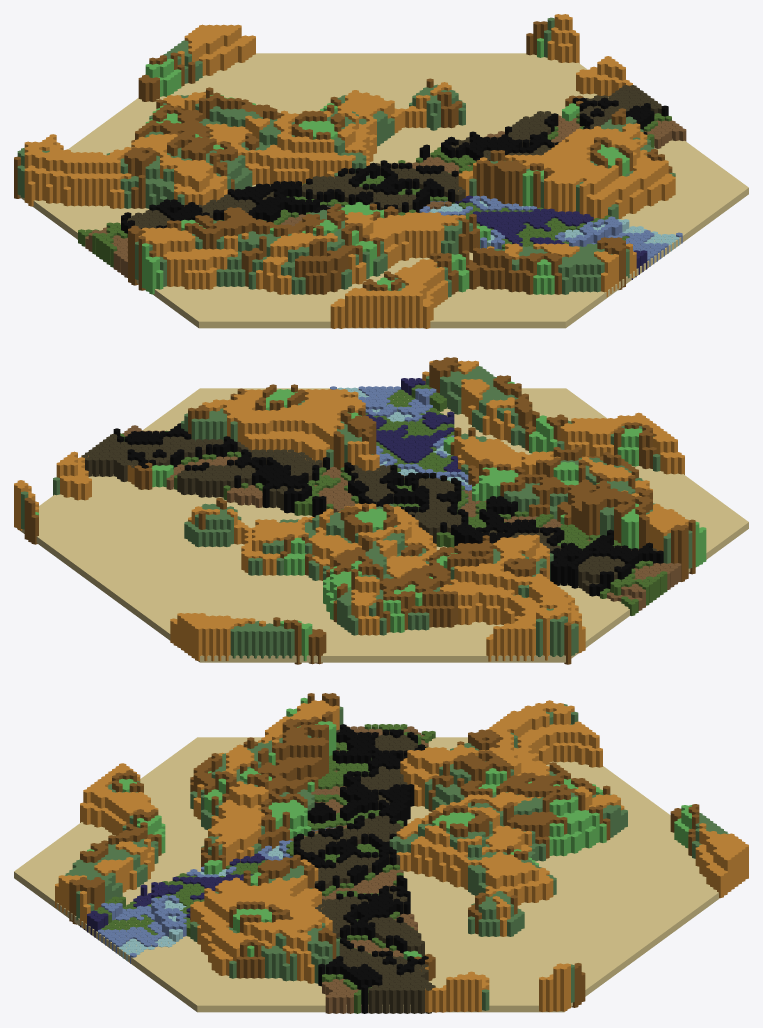
File: 0046_tile_1212210.fbx
3 views of the same model, one above another, from view 1: azimuth 30°, elevation 25°; view 2: azimuth 150°, elevation 25°; view 3: azimuth 270°, elevation 25° (orthographic).
Visible parts, largest first — view 1: Plane; view 2: Plane; view 3: Plane.
Boxes of the visible parts, box(x1,y1,x2,y2) form: Plane: box(14, 14, 748, 328); Plane: box(14, 357, 748, 664); Plane: box(14, 693, 748, 1013).
Bounding box in the file's own units: 1008 × 89.13 × 1152.
